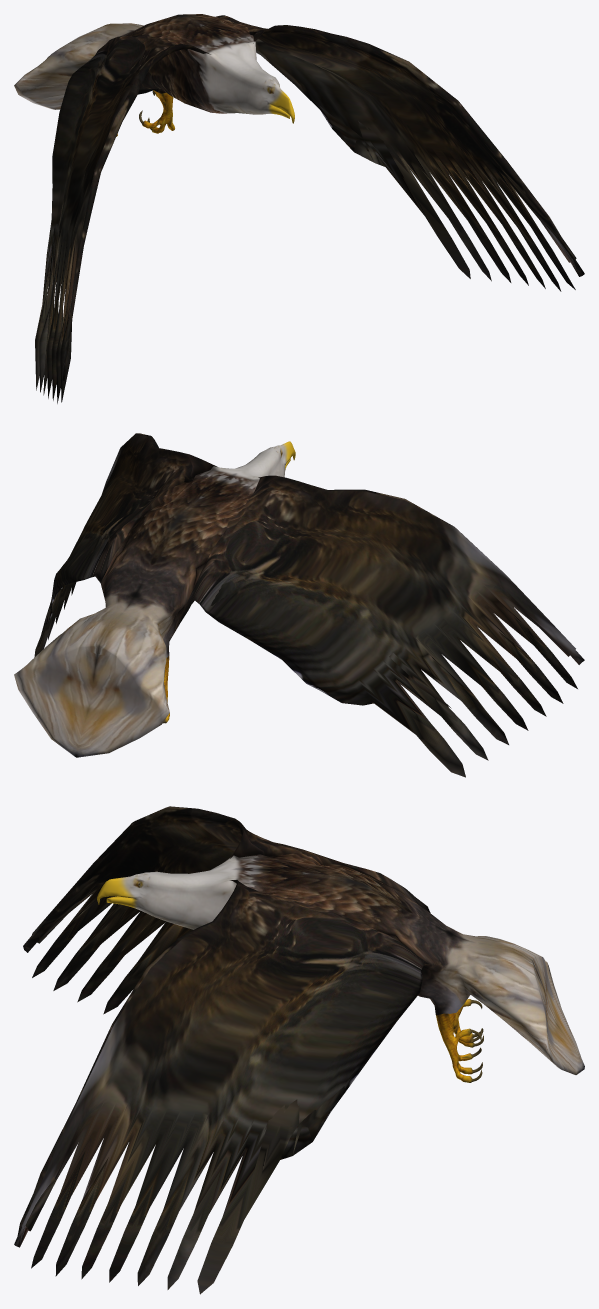
The model's file is Eagle-original_000097.obj.
3 views of the same model, one above another, from view 1: azimuth 30°, elevation 25°; view 2: azimuth 150°, elevation 25°; view 3: azimuth 270°, elevation 25° (orthographic). The views are drawn at different scales.
Visible parts, largest first — view 1: Flugel_Plane.003; view 2: Flugel_Plane.003; view 3: Flugel_Plane.003.
Part boxes in pixels (x1,y1,x2,y2): Flugel_Plane.003: [14, 14, 584, 403]; Flugel_Plane.003: [14, 433, 584, 777]; Flugel_Plane.003: [14, 806, 584, 1294].
Bounding box in the file's own units: 7.61 × 4.04 × 6.57.
1 material, 1 textured.
